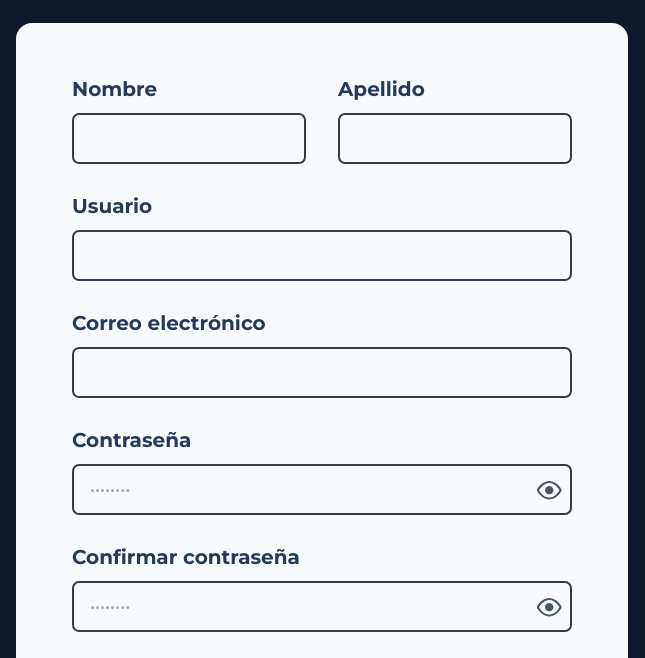
RegisterScreen - Integration Unit Tests › should intercept architecture-level failures and translate them into visible UI global errors
Type "Angel" into the field labelled "Nombre".
click(189, 138); type("Angel")  # box [74,115,304,162]
Type "Core" into the field labelled "Apellido".
click(455, 138); type("Core")  # box [340,115,570,162]
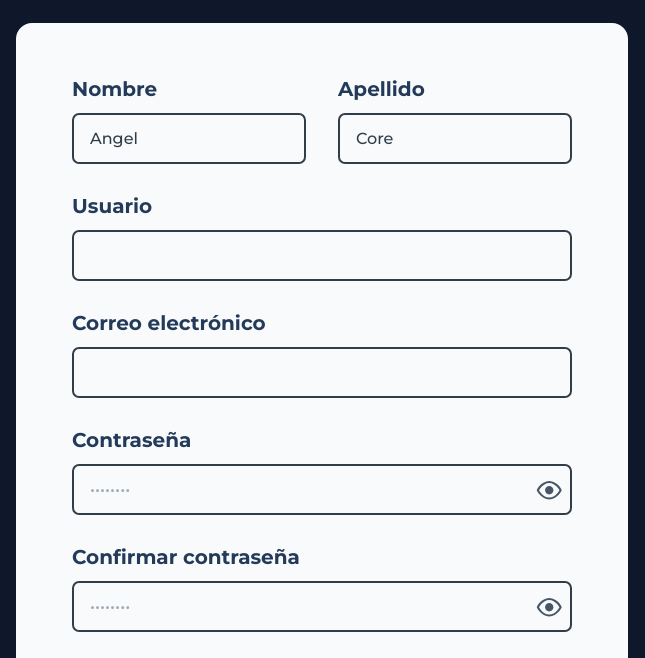
Type "angel_core" into the field labelled "Usuario".
click(322, 256); type("angel_core")  # box [74,232,570,279]
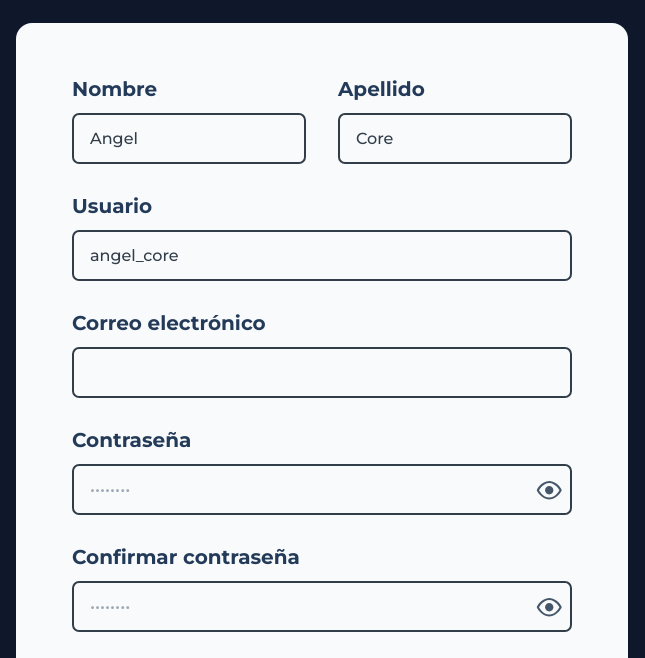
Type "securePassword123" into the password field labelled "Contraseña".
click(302, 490); type("securePassword123")  # box [74,466,529,513]
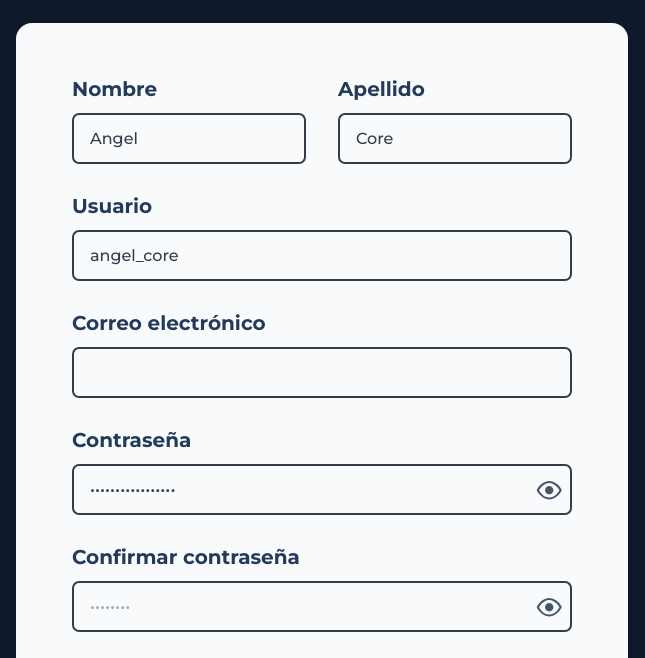
Type "securePassword123" into the password field labelled "Confirmar contraseña".
click(302, 606); type("securePassword123")  # box [74,583,529,630]
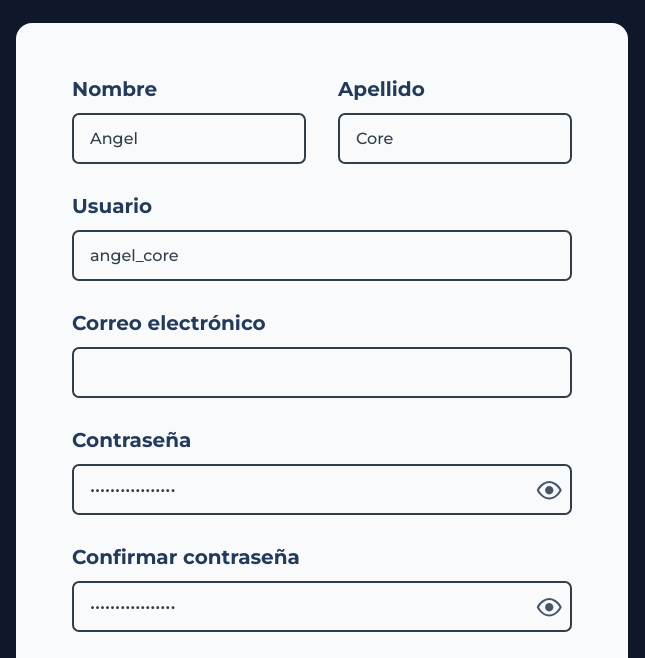
Type "duplicate@email.com" into the field labelled "Correo electrónico".
click(322, 372); type("duplicate@email.com")  # box [74,349,570,396]
(page scrolled)
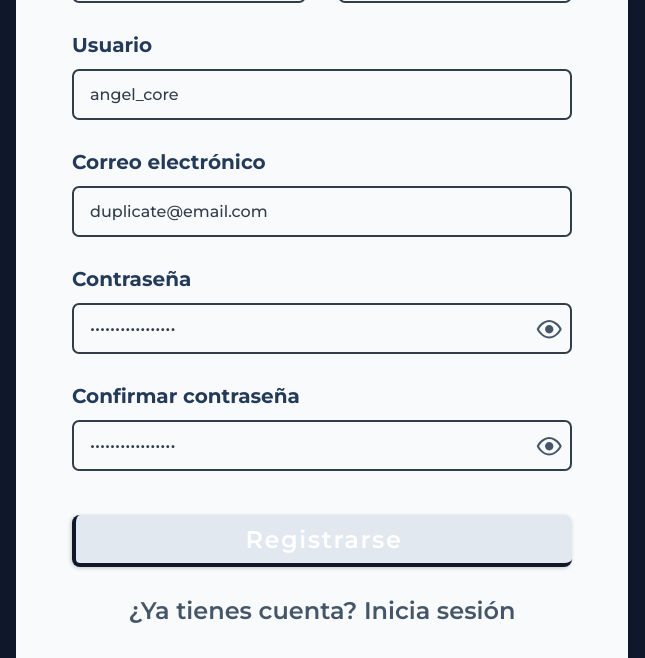
Click the button "Registrarse".
click(322, 541)  # box [72,515,572,567]
(page scrolled)
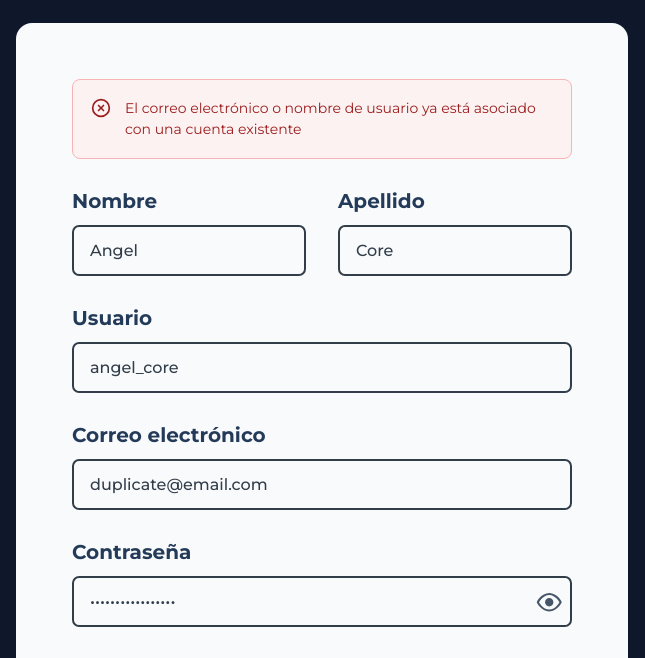
Now the text "El correo electrónico o nombre de usuario ya está asociado con una cuenta existente" is shown, box [125,99,536,138]
